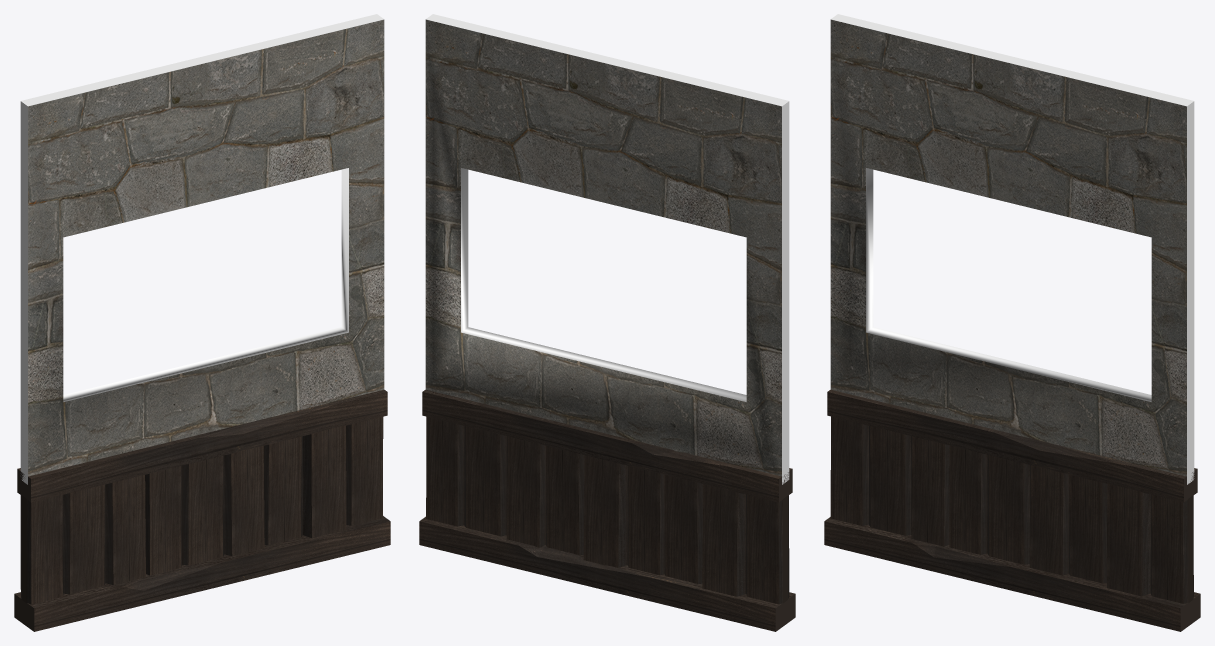
The model's file is wall2.fbx.
The picture shows the model from 3 angles, left to right: view 1: azimuth 30°, elevation 25°; view 2: azimuth 150°, elevation 25°; view 3: azimuth 330°, elevation 25°; orthographic projection.
Visible parts, largest first — view 1: SM_Bld_House_Wall_02, SM_Bld_House_Wall_02.001; view 2: SM_Bld_House_Wall_02, SM_Bld_House_Wall_02.001; view 3: SM_Bld_House_Wall_02, SM_Bld_House_Wall_02.001.
Part boxes in pixels (box(x1,y1,x2,y2)): SM_Bld_House_Wall_02: box(20, 14, 384, 484); SM_Bld_House_Wall_02.001: box(14, 389, 390, 631); SM_Bld_House_Wall_02: box(425, 14, 789, 484); SM_Bld_House_Wall_02.001: box(419, 389, 795, 631); SM_Bld_House_Wall_02: box(830, 14, 1194, 484); SM_Bld_House_Wall_02.001: box(824, 389, 1200, 631).
Bounding box in the file's own units: 250 × 349 × 24.2.
